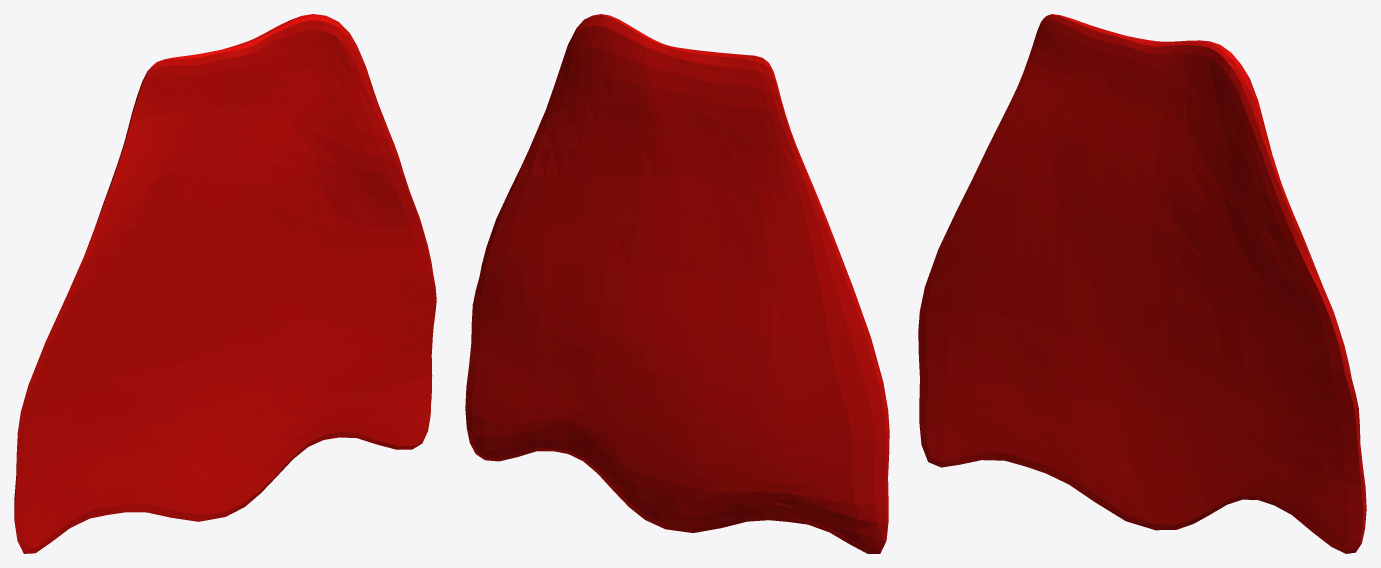
The model's file is pelerin (1).fbx.
3 views of the same model, side by side, from view 1: azimuth 30°, elevation 25°; view 2: azimuth 150°, elevation 25°; view 3: azimuth 330°, elevation 25° (orthographic). The views are drawn at different scales.
Parts seen in each view (by area): view 1: box; view 2: box; view 3: box.
Boxes of the visible parts, x1,y1,x2,y2 form: box: [14, 14, 436, 553]; box: [465, 14, 889, 553]; box: [918, 14, 1366, 553].
Size of the model in its own units: 92.34 by 103 by 10.63.
